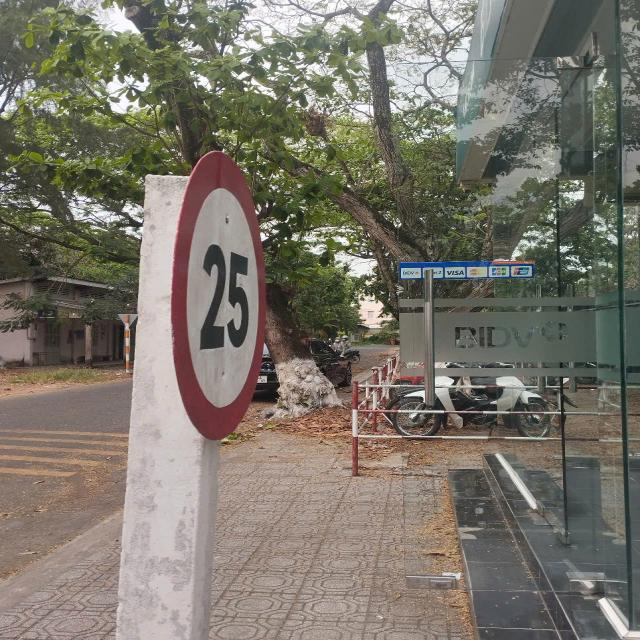Tre_Em: (168, 146, 271, 440)
